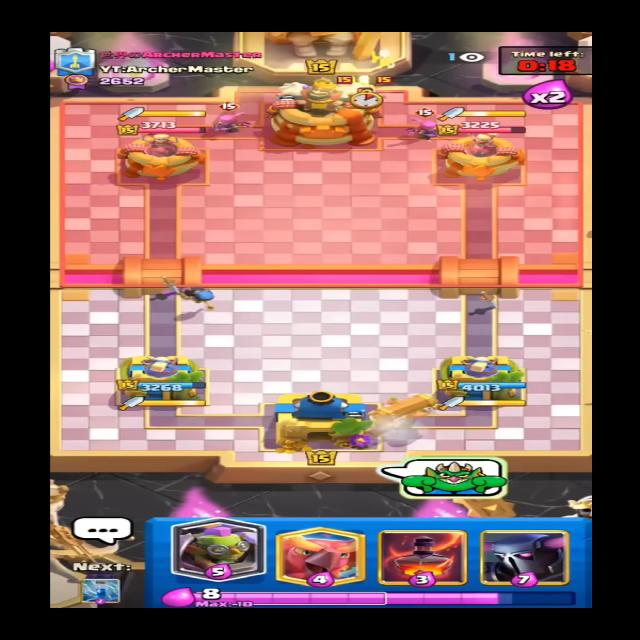Evoarchers: (409, 105, 449, 144), (210, 100, 255, 133)
